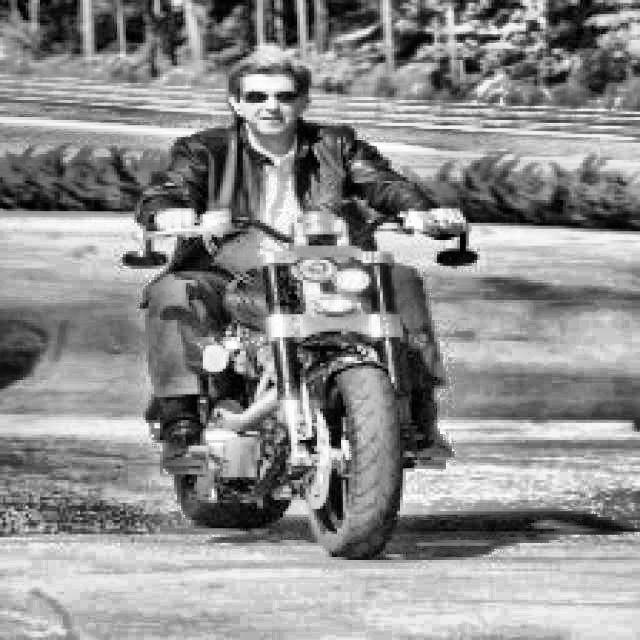motorcycle: (120, 193, 483, 556)
